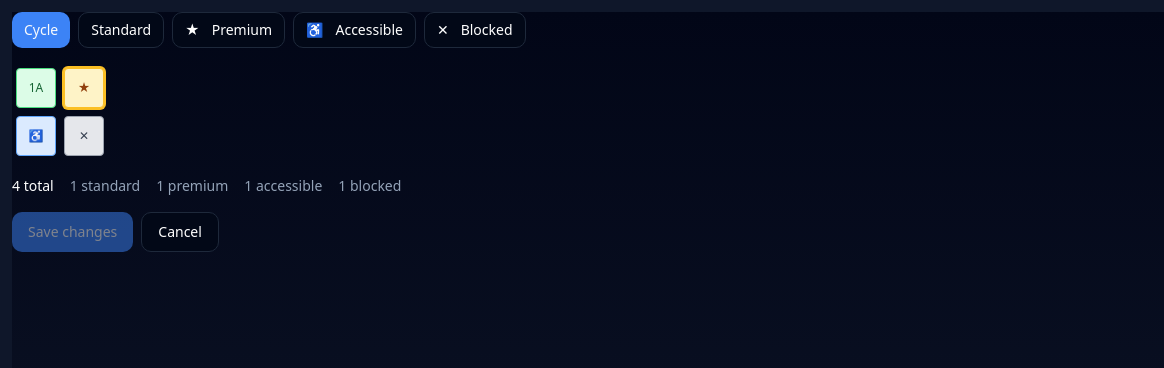
Test case: SeatMapEditor › click to cycle seat type › cycles DISABLED_ACCESSIBLE to BLOCKED on click
Click the cell named "Seat 2A, Accessible".
click(36, 136)  # box [16,116,56,156]
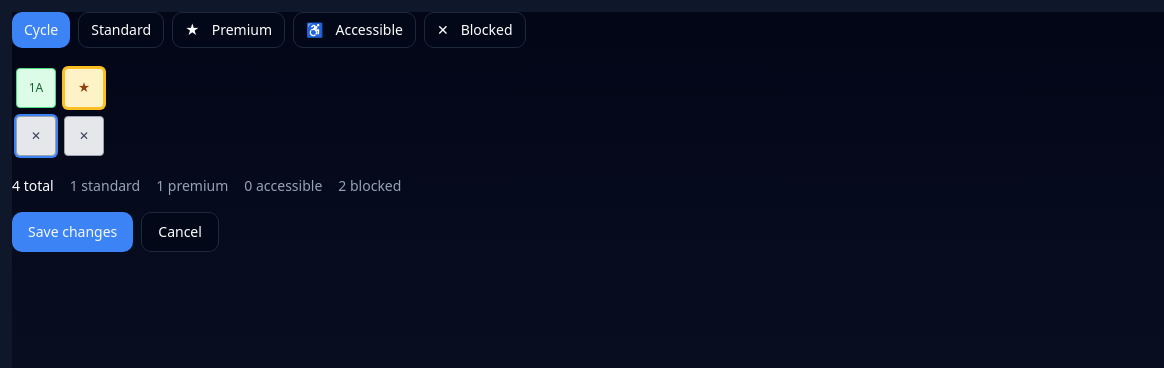
expect the cell named "Seat 2A, Blocked" is shown: met, box [16,116,56,156]
